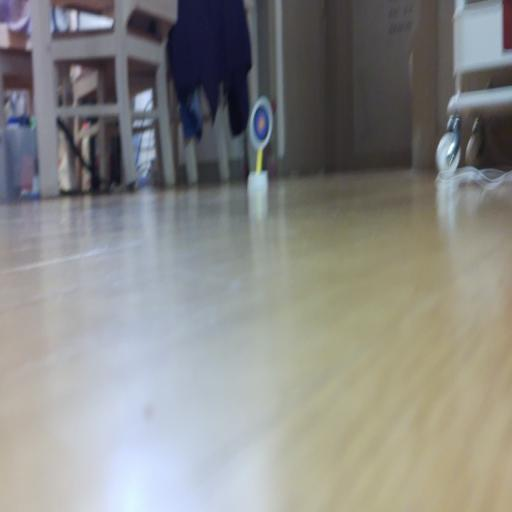target: (249, 96, 273, 150)
